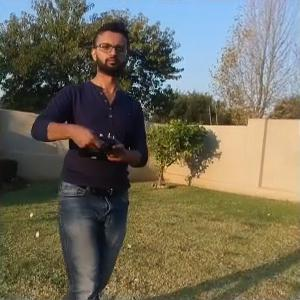follow: (25, 15, 149, 298)
